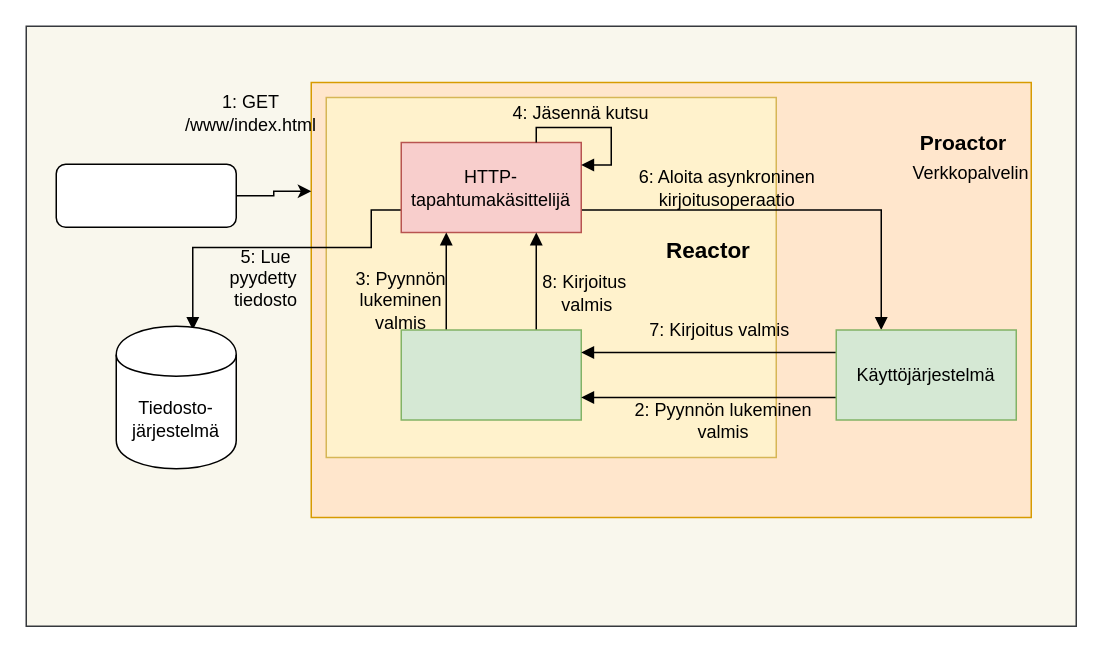
This 1103x653 diagram has some shape labels left out. The shapes that lost their labels are listed below. From the top down, each one's centre as x and y in pixels, then its label:
At (x=145, y=195): "Asiakas".
At (x=490, y=374): "Tapahtumasäie".
